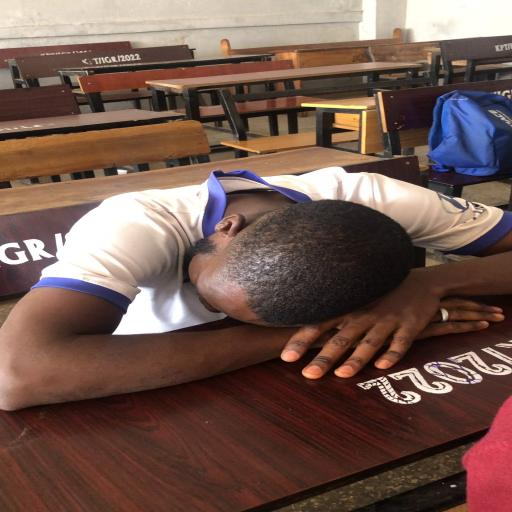Sleeping: (4, 113, 512, 398), (0, 152, 512, 388)
